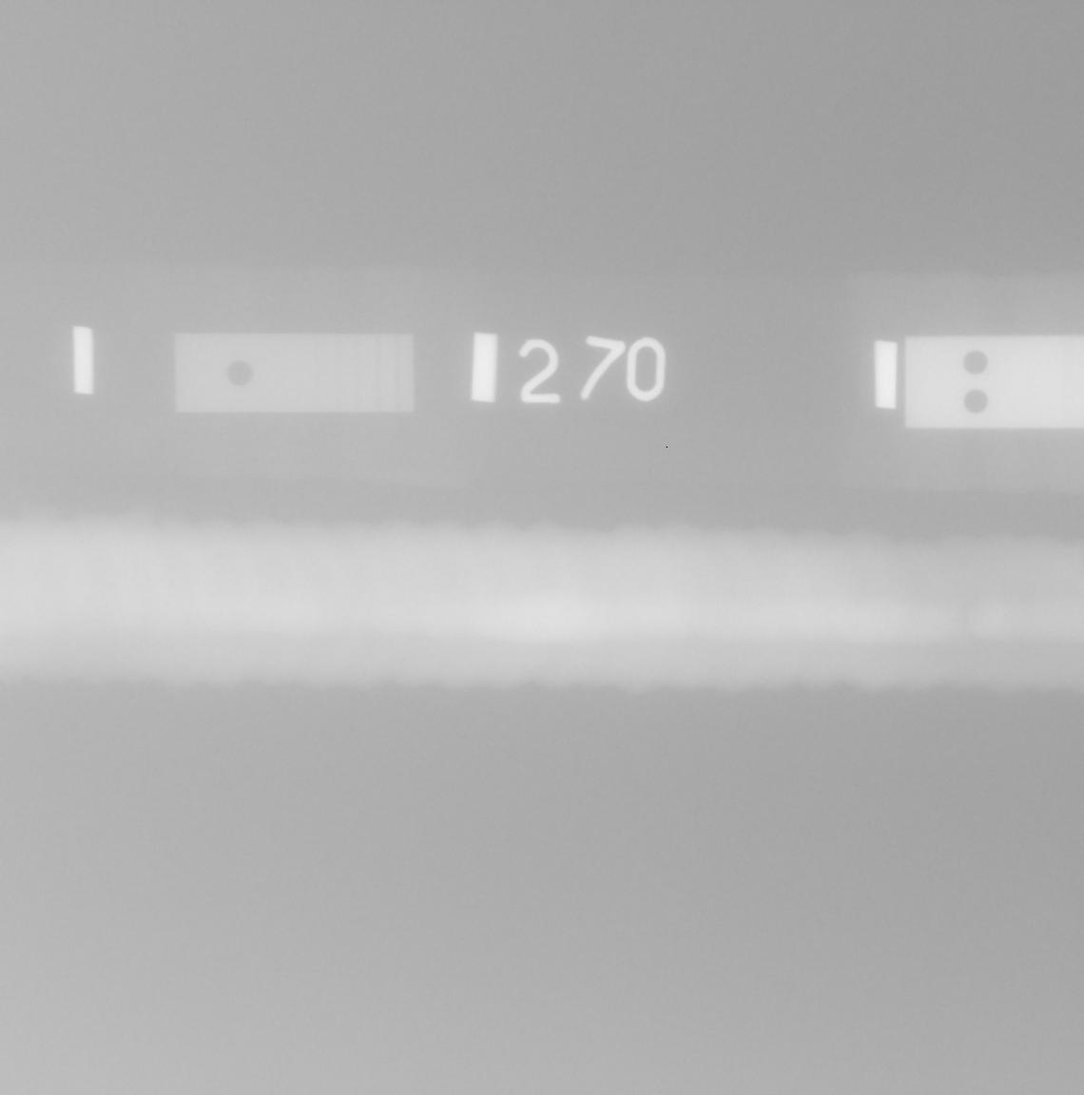Reference Standard 1: (174, 333, 414, 413)
